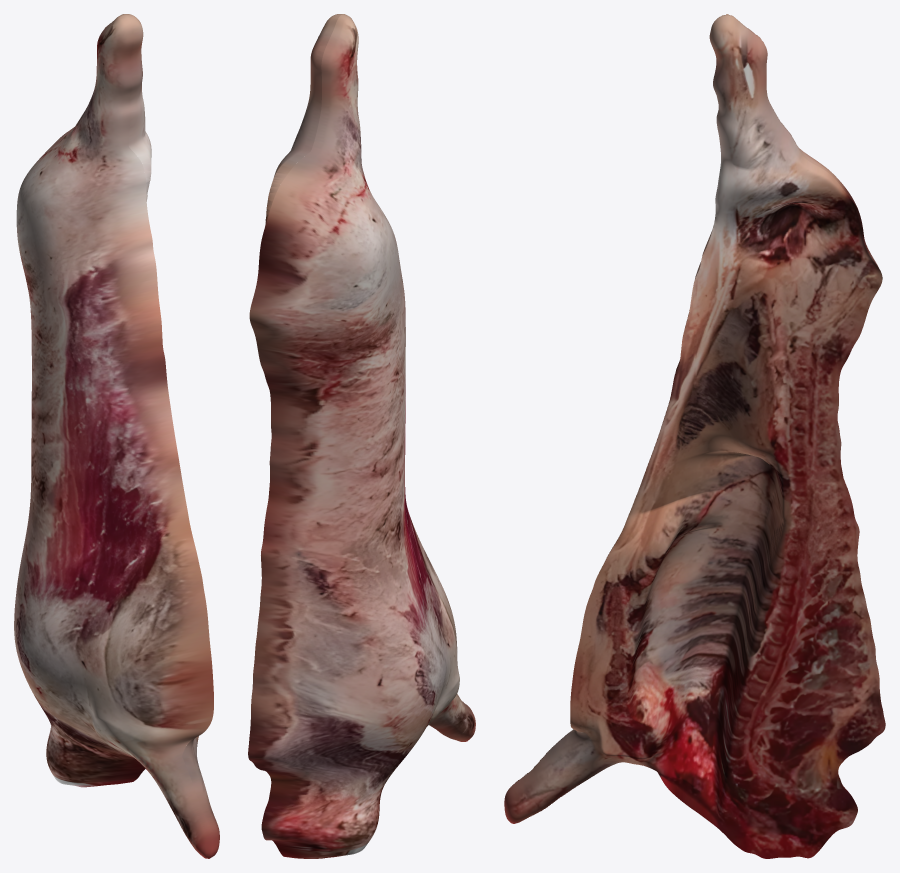
Rendered from demi_carcasse_boeuf_v30.glb.
The picture shows the model from 3 angles, left to right: view 1: azimuth 30°, elevation 25°; view 2: azimuth 150°, elevation 25°; view 3: azimuth 270°, elevation 25°; orthographic projection. The views are drawn at different scales.
Parts seen in each view (by area): view 1: face_exterieure, face_de_fente; view 2: face_exterieure, face_de_fente; view 3: face_de_fente, face_exterieure.
Boxes of the visible parts, x1=… form: face_exterieure: x1=14, y1=14, x2=213, y2=858; face_de_fente: x1=124, y1=14, x2=219, y2=857; face_exterieure: x1=248, y1=14, x2=475, y2=858; face_de_fente: x1=265, y1=14, x2=446, y2=736; face_de_fente: x1=504, y1=16, x2=885, y2=858; face_exterieure: x1=509, y1=14, x2=878, y2=794.
Size of the model in its own units: 0.4392 by 2.5 by 1.03.
2 materials, 2 textured.
